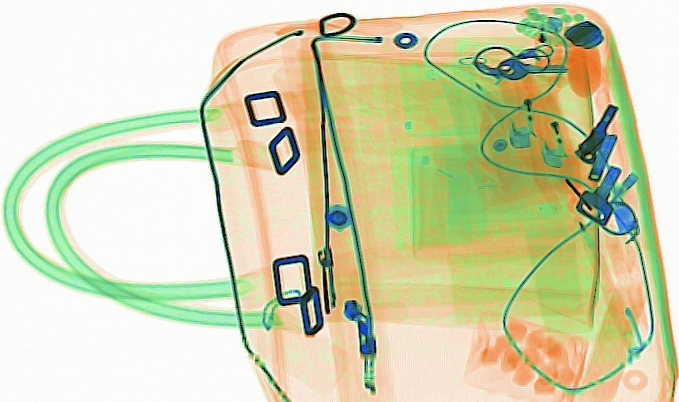lighter: (527, 83, 575, 170), (494, 56, 538, 149)
